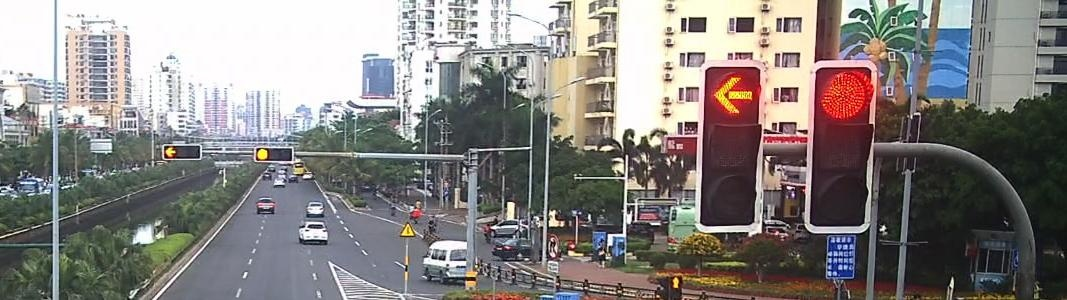red: (815, 71, 873, 122), (255, 147, 269, 160)
redleft: (710, 71, 756, 119), (166, 146, 175, 158)
redpeople: (670, 278, 684, 290)
